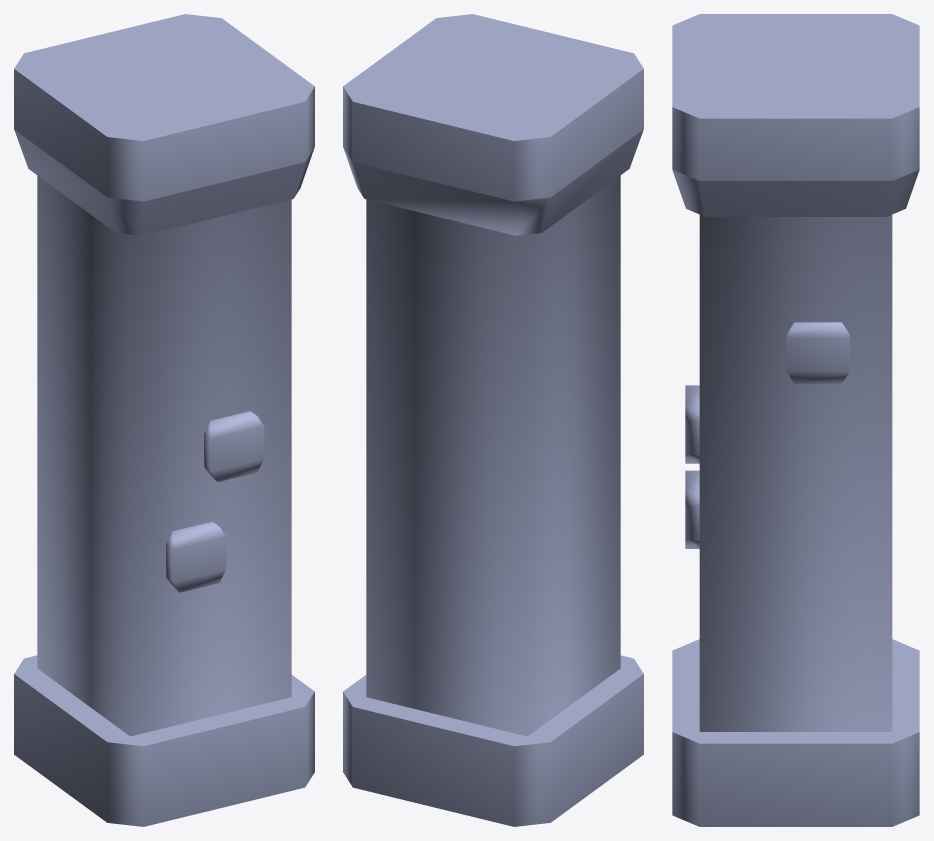
The model's file is WallColumn.glb.
3 views of the same model, side by side, from view 1: azimuth 30°, elevation 25°; view 2: azimuth 150°, elevation 25°; view 3: azimuth 270°, elevation 25° (orthographic). The views are drawn at different scales.
Parts seen in each view (by area): view 1: WallColumn; view 2: WallColumn; view 3: WallColumn.
Boxes of the visible parts, <box> form: WallColumn: <box>14,14,314,826</box>; WallColumn: <box>343,14,643,826</box>; WallColumn: <box>672,14,919,826</box>.
Size of what is drawn, in the model's own units: 1.81 by 5.72 by 1.81.
1 material, 1 textured.
